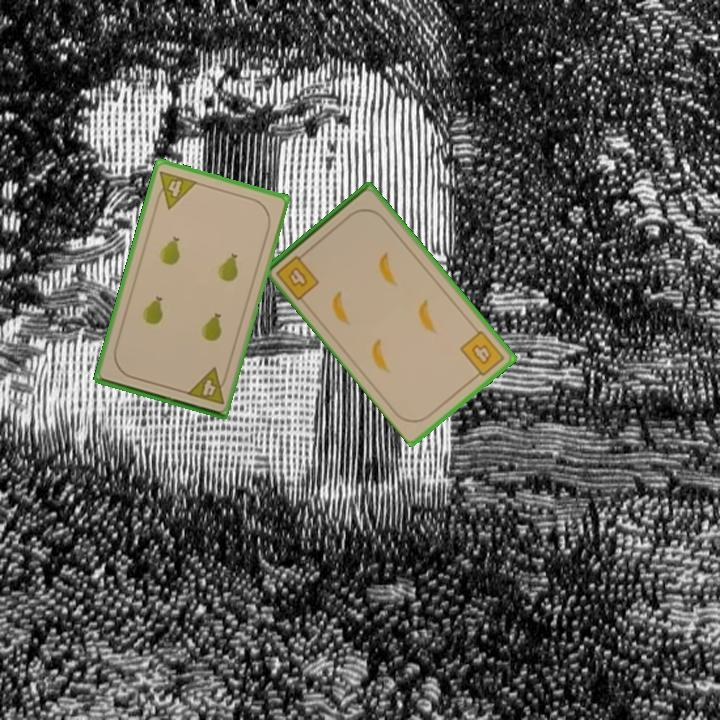4b: (456, 327, 508, 382), (272, 248, 322, 303)
4p: (151, 167, 200, 212), (183, 364, 231, 407)
